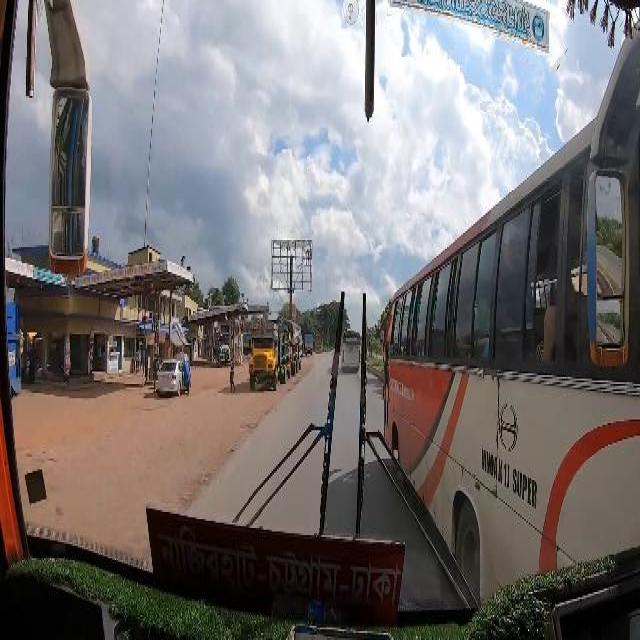11: (303, 332, 313, 354)
15: (218, 344, 230, 364)
18: (248, 319, 290, 389), (286, 320, 304, 370), (315, 340, 321, 350)
5: (154, 356, 188, 394)
Truck: (385, 116, 639, 599), (341, 327, 361, 370)
